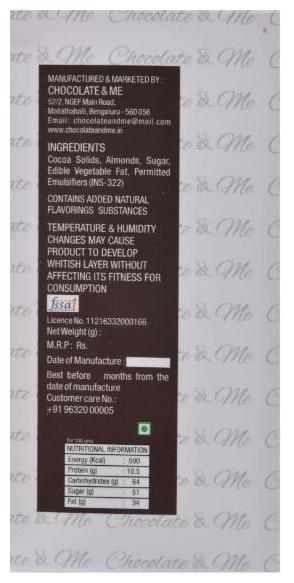fssai: (48, 294, 78, 313)
